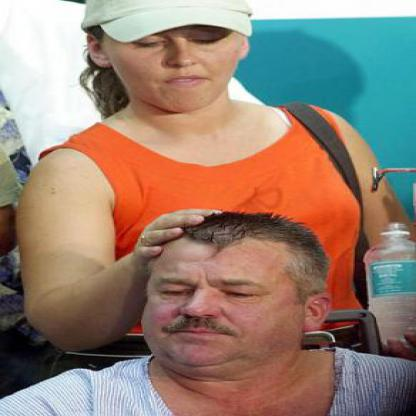face: (136, 215, 312, 375), (107, 1, 241, 115)
